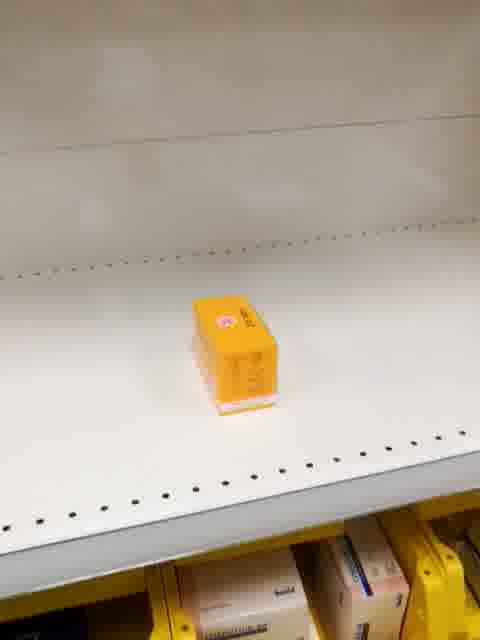jasminetea: (192, 293, 281, 416)
